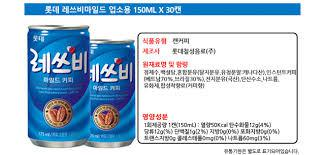letsbe: (26, 21, 92, 148), (90, 38, 138, 149)
